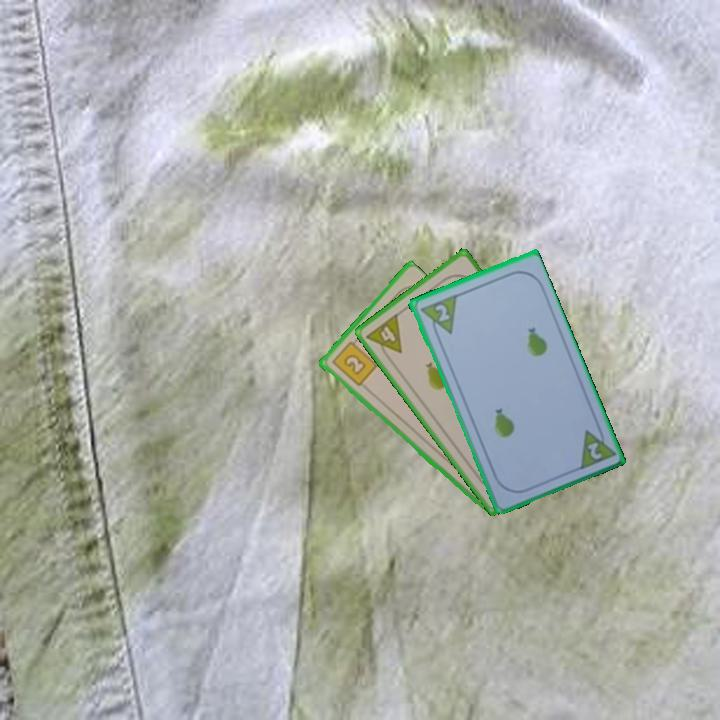2b: (328, 334, 380, 389)
2p: (416, 291, 459, 341), (583, 438, 605, 462)
4p: (362, 310, 405, 364)
